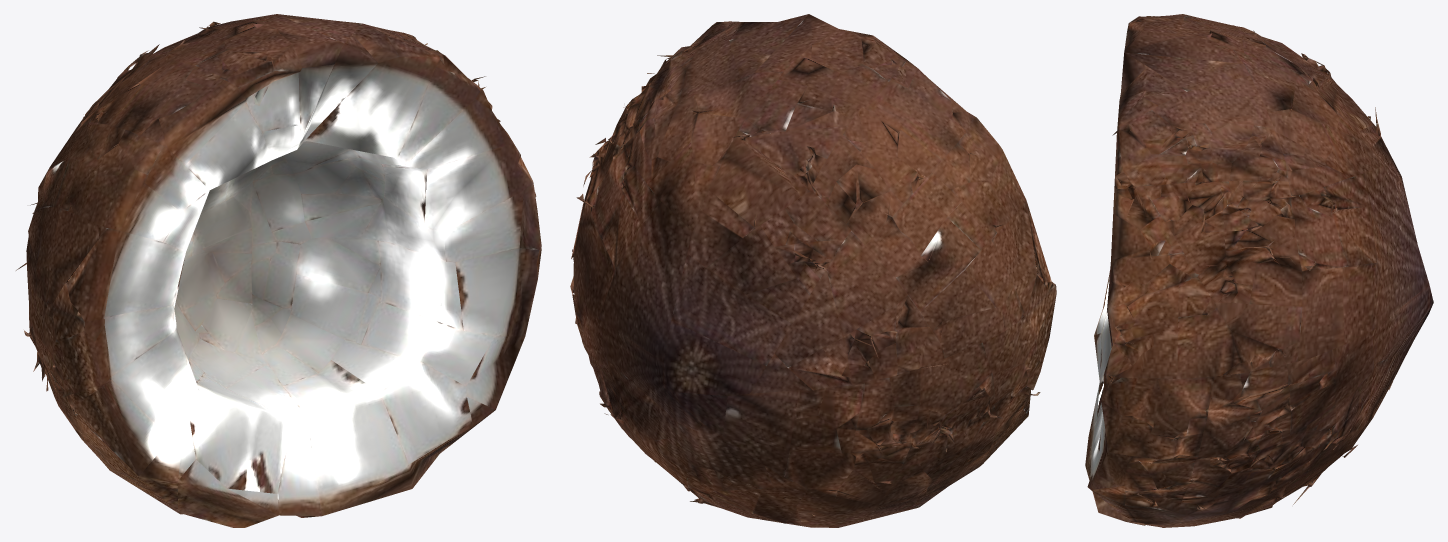
The model's file is cocobowl.glb.
3 views of the same model, side by side, from view 1: azimuth 30°, elevation 25°; view 2: azimuth 150°, elevation 25°; view 3: azimuth 270°, elevation 25° (orthographic). The views are drawn at different scales.
Parts seen in each view (by area): view 1: otter; view 2: otter; view 3: otter.
Boxes of the visible parts, <box> form: otter: <box>16,14,541,527</box>; otter: <box>570,14,1056,527</box>; otter: <box>1085,14,1433,527</box>.
Size of the model in its own units: 1.79 by 1.81 by 1.23.
Materials: 1 (1 with a texture image).
